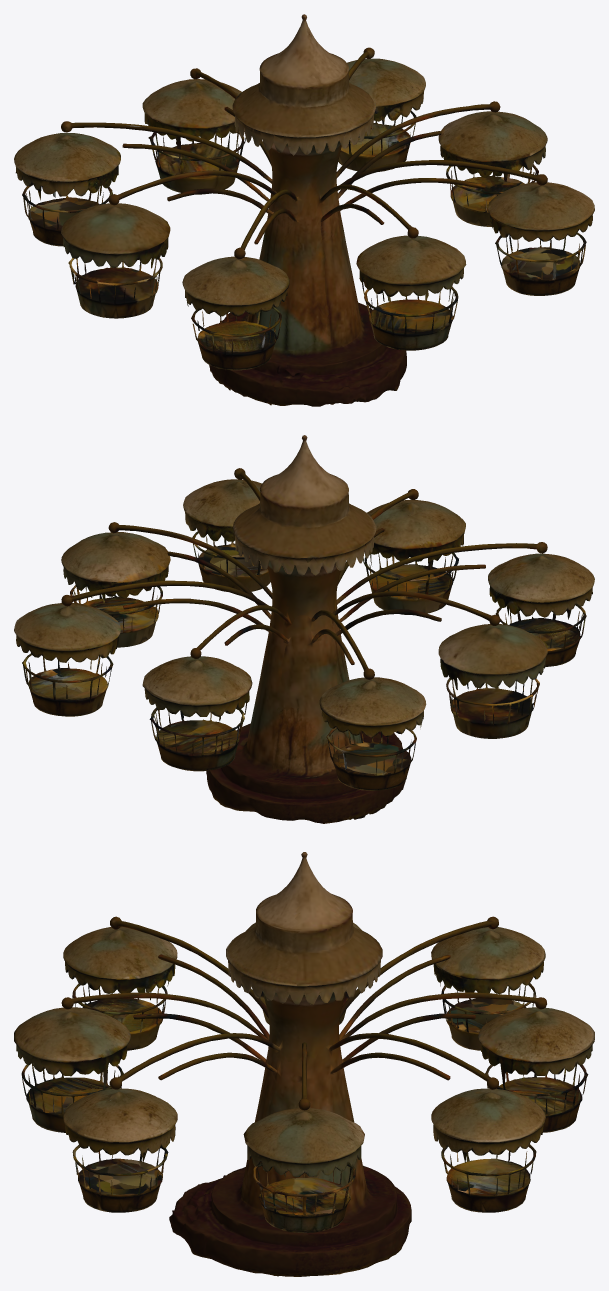
Rendered from giratorio.fbx.
The picture shows the model from 3 angles, top to bottom: view 1: azimuth 30°, elevation 25°; view 2: azimuth 150°, elevation 25°; view 3: azimuth 270°, elevation 25°; orthographic projection. The views are drawn at different scales.
Visible parts, largest first — view 1: tripo_node_1e80b5c1; view 2: tripo_node_1e80b5c1; view 3: tripo_node_1e80b5c1.
Part boxes in pixels (x1=…): tripo_node_1e80b5c1: x1=14, y1=14, x2=594, y2=406; tripo_node_1e80b5c1: x1=14, y1=435, x2=594, y2=823; tripo_node_1e80b5c1: x1=14, y1=852, x2=594, y2=1276.
Size of the model in its own units: 1 by 0.7122 by 0.9787.
Materials: 1 (1 with a texture image).
